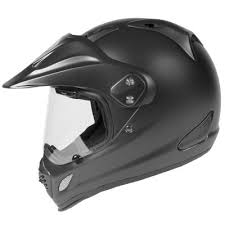helmet: (1, 12, 225, 215)
